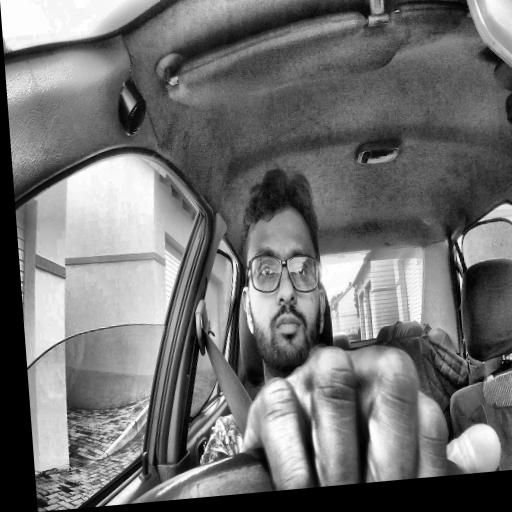awake: (233, 165, 331, 379)
